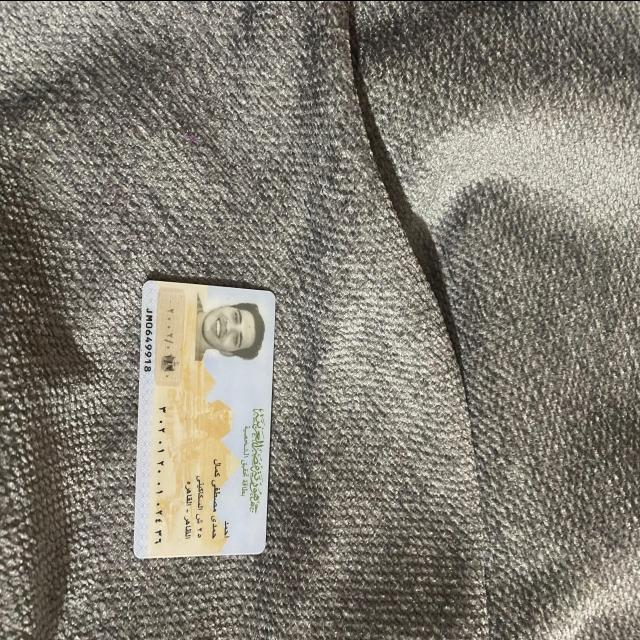ID-cards: (122, 272, 280, 564)
